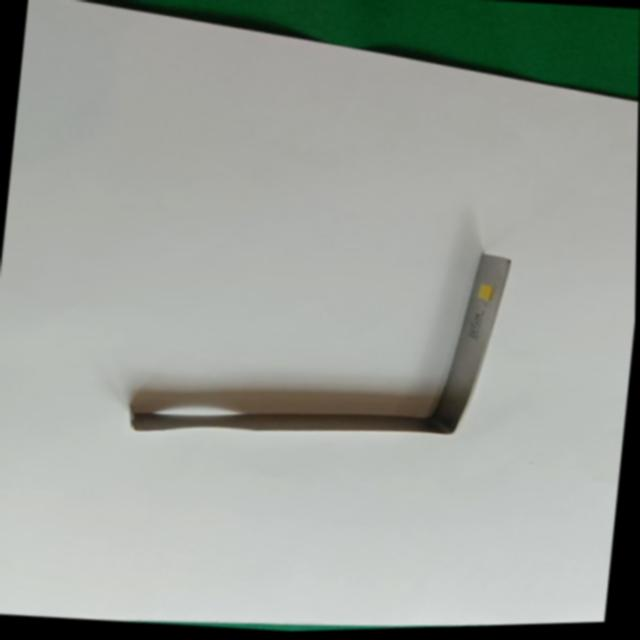AustinRetractor: (109, 220, 518, 468)
